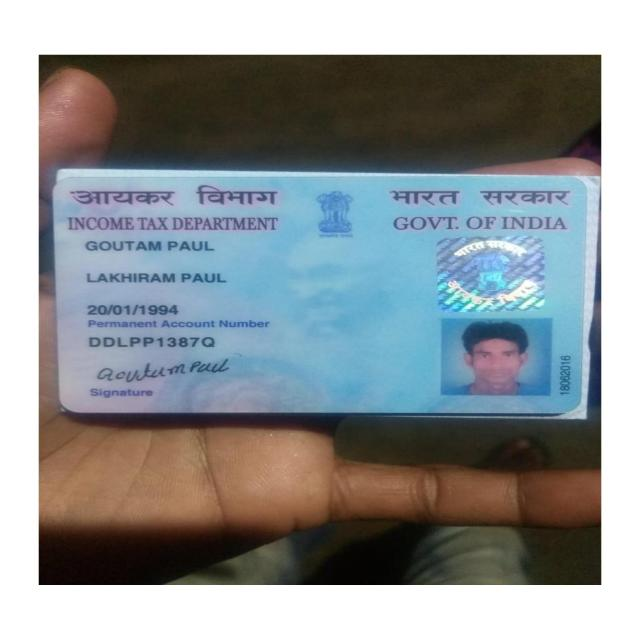pan_card: (58, 180, 578, 410)
